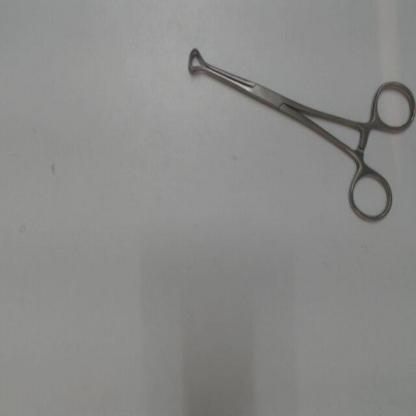Babcock Tissue Forceps: (184, 42, 416, 229)
